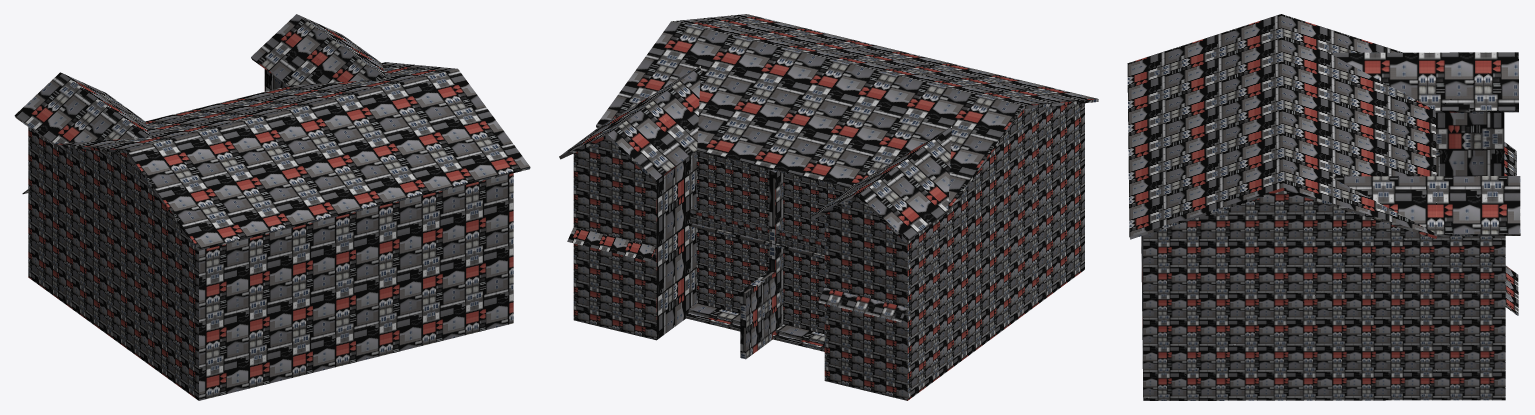
The model's file is fangzi01.FBX.
3 renders of one model, left to right at view 1: azimuth 30°, elevation 25°; view 2: azimuth 150°, elevation 25°; view 3: azimuth 270°, elevation 25°, orthographic. The views are drawn at different scales.
Parts seen in each view (by area): view 1: fangzi006; view 2: fangzi006; view 3: fangzi006.
Boxes of the visible parts, bbox=[...] form: fangzi006: bbox=[14, 14, 530, 400]; fangzi006: bbox=[559, 14, 1098, 400]; fangzi006: bbox=[1127, 14, 1520, 400].
Bounding box in the file's own units: 542 × 316 × 515.
